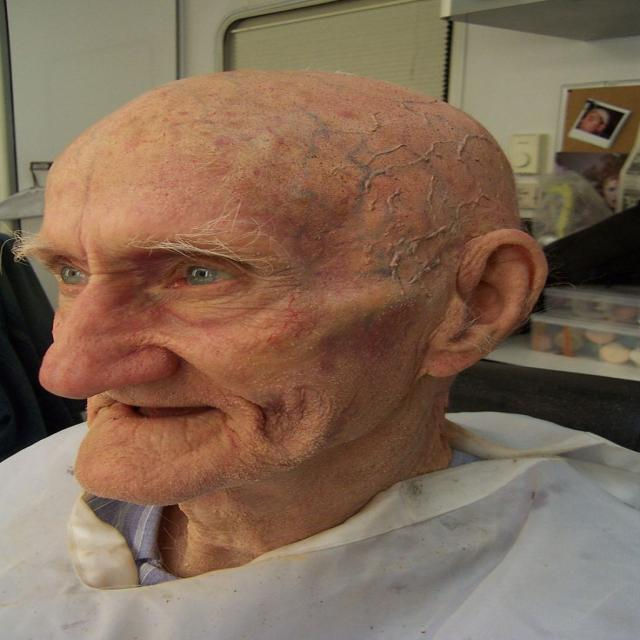right: (32, 166, 354, 483)
